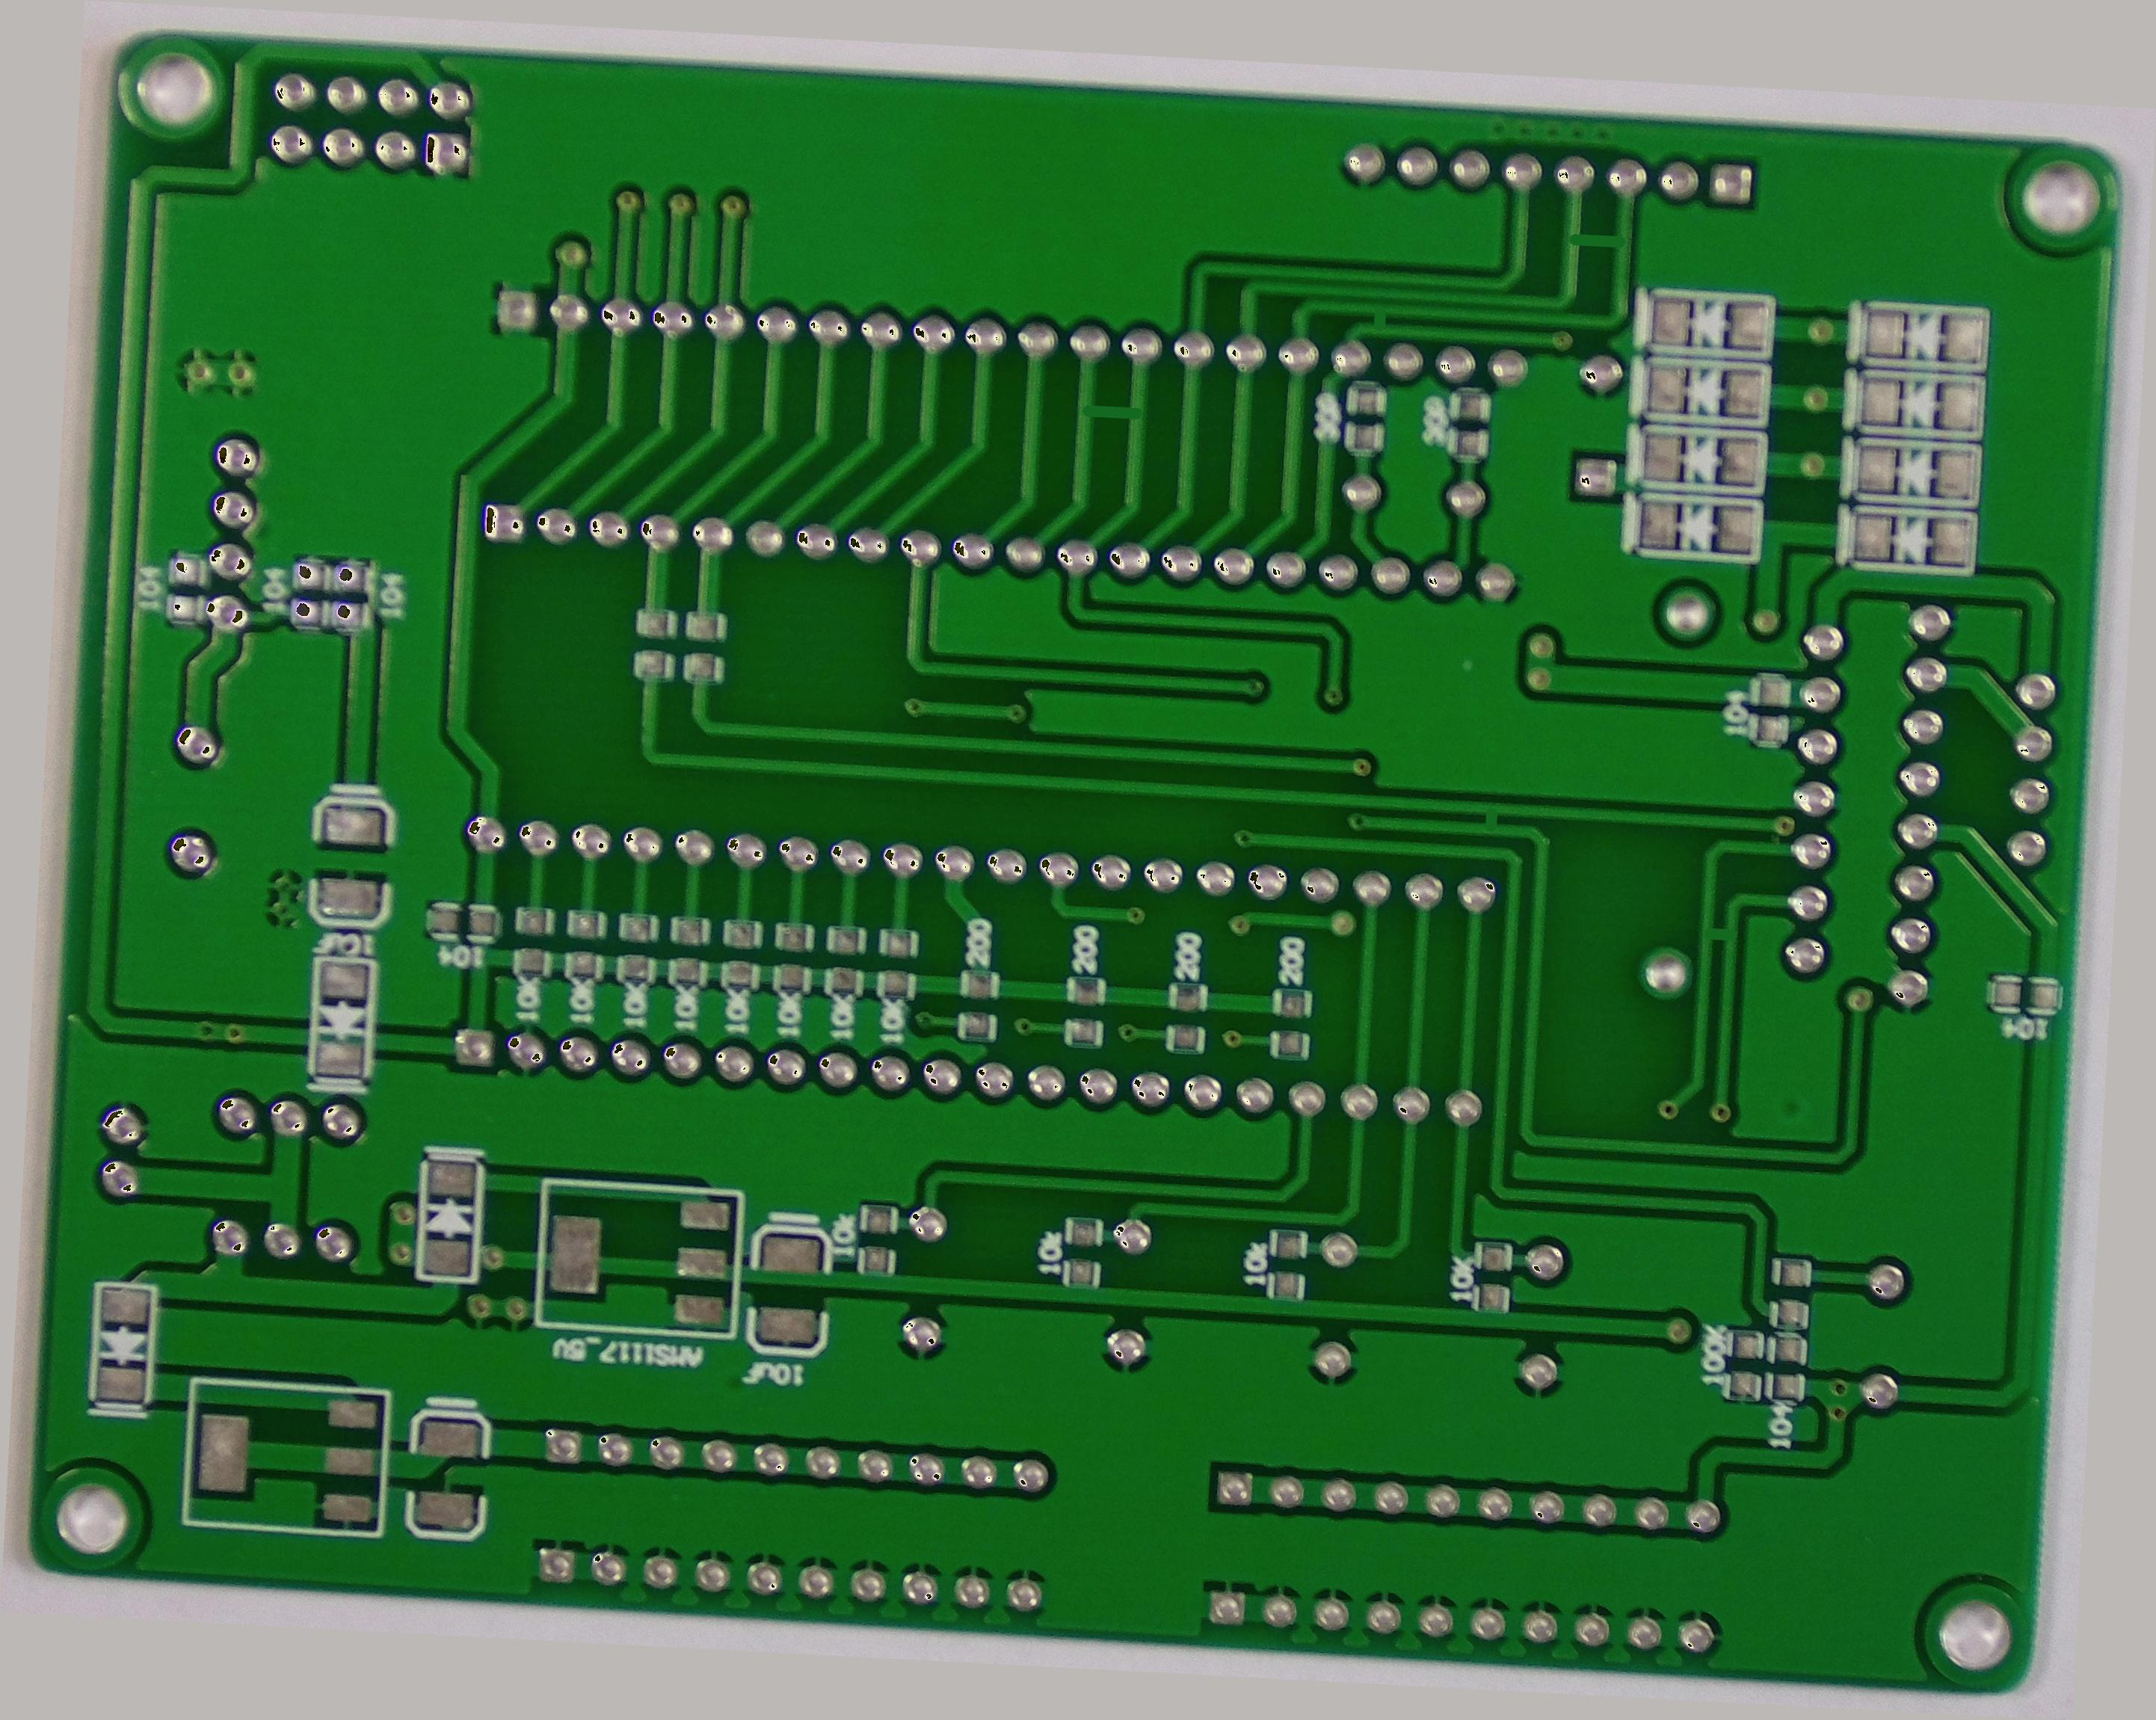short: (1059, 383, 1159, 435), (1554, 212, 1638, 269), (1464, 793, 1513, 841), (1354, 297, 1403, 340), (1694, 913, 1740, 955)
